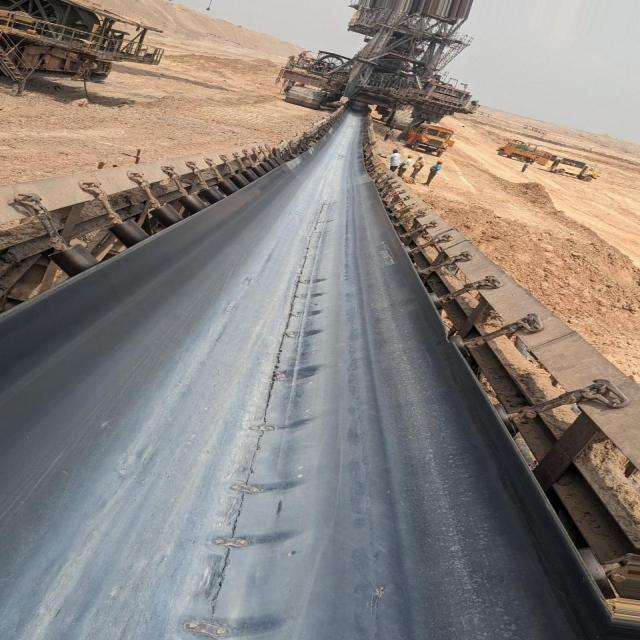Human: (380, 151, 401, 174), (408, 154, 426, 177), (424, 160, 440, 185), (398, 155, 413, 176)
Roller: (0, 142, 298, 325)
patch work: (167, 208, 333, 628)
